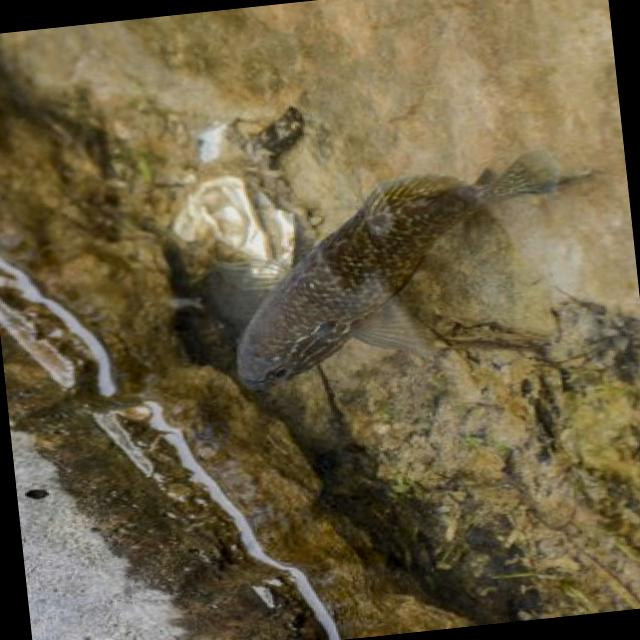Gunes Levregi: (190, 145, 582, 394)
